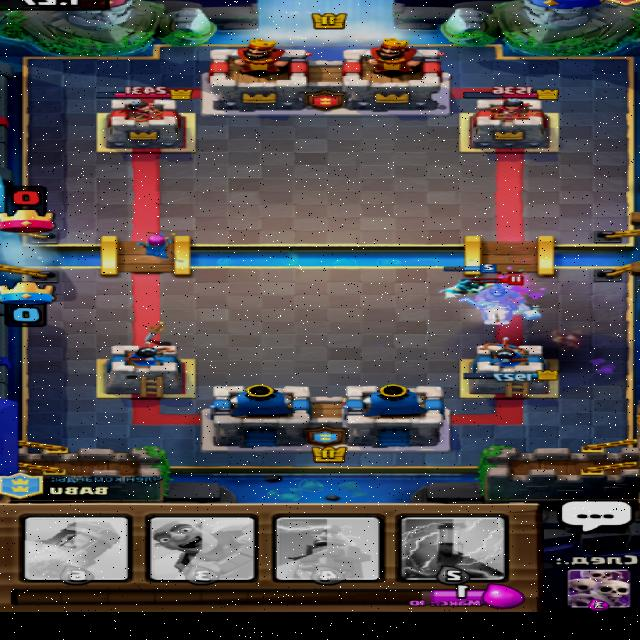Enemy-HogRider: (473, 274, 545, 324)
Player-Archer: (136, 231, 178, 258)
Player-ElectroWizard: (439, 263, 506, 299)
